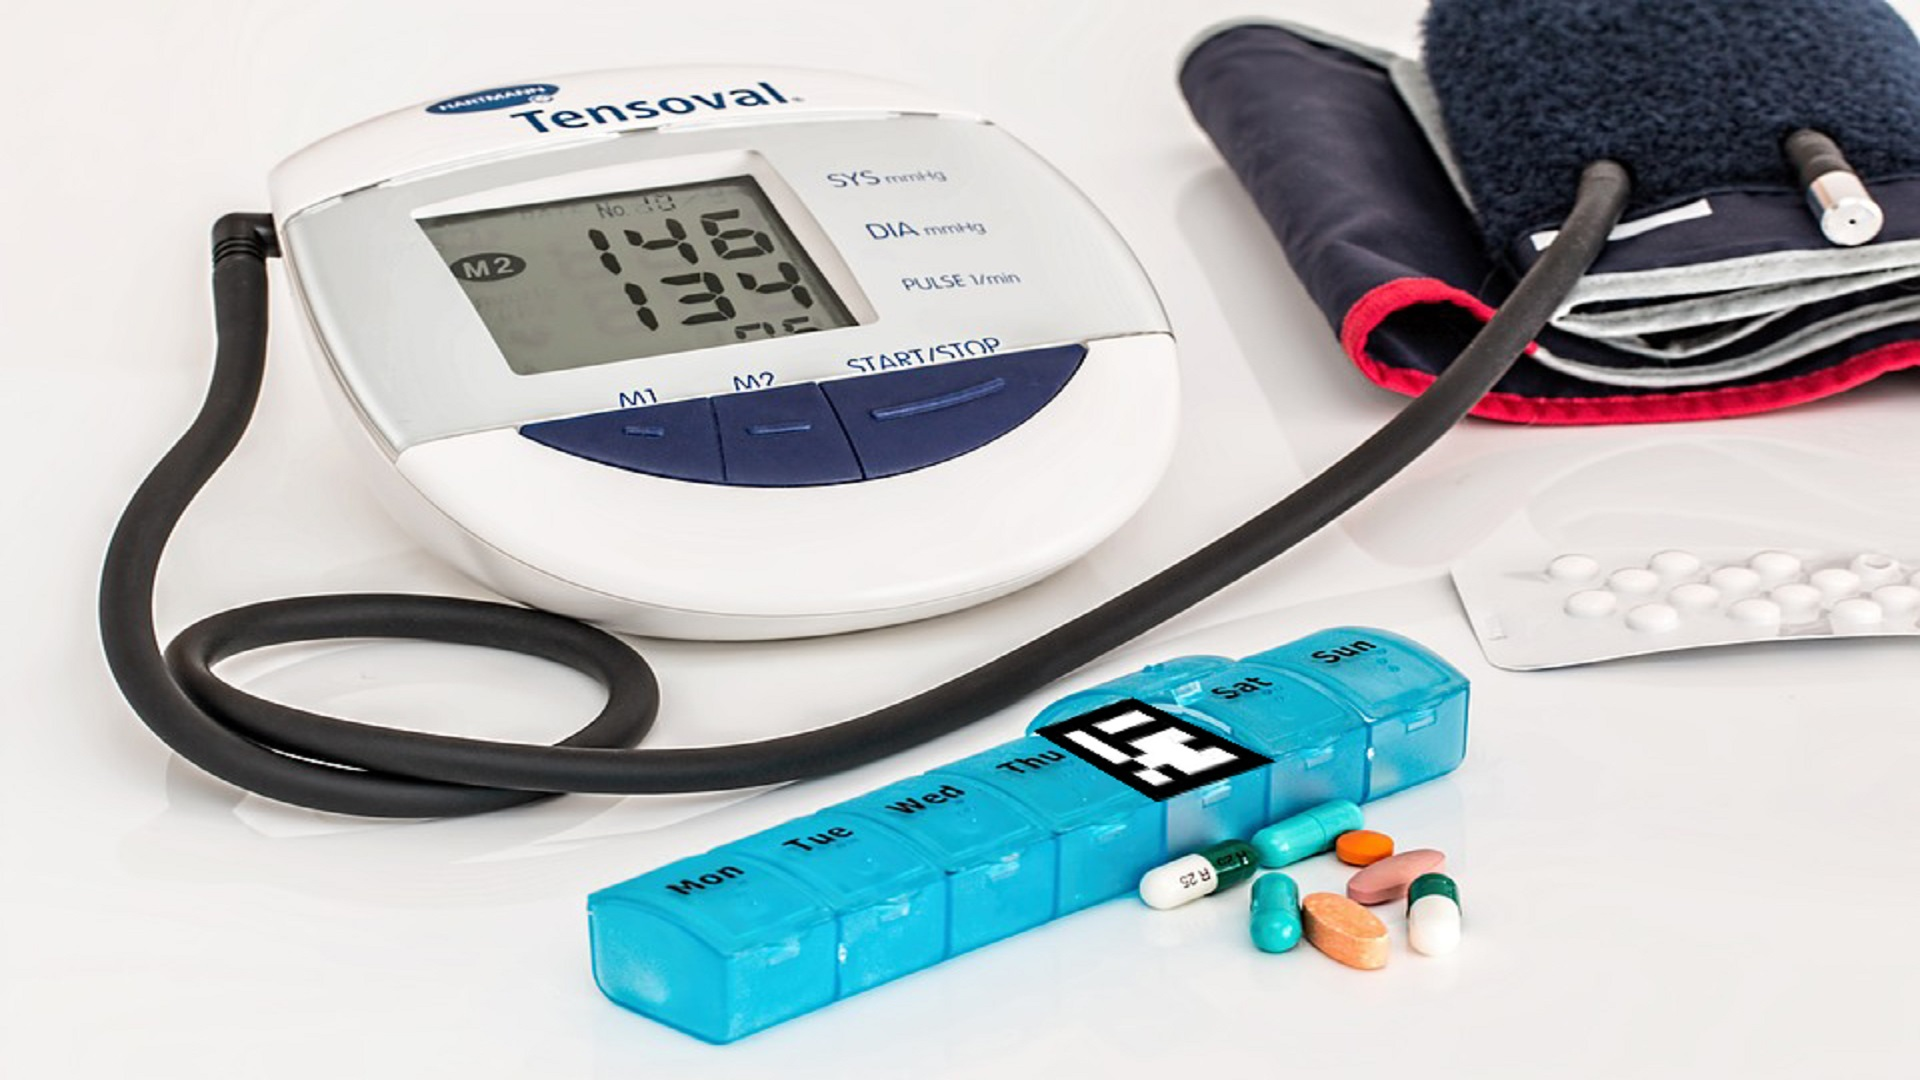marker: (1033, 695, 1279, 804)
